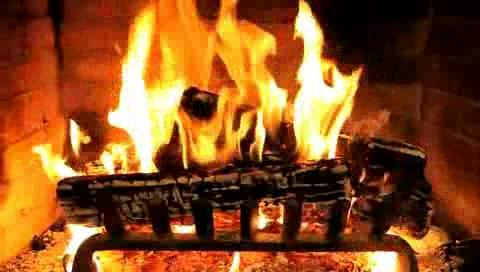fire: (116, 13, 355, 183)
